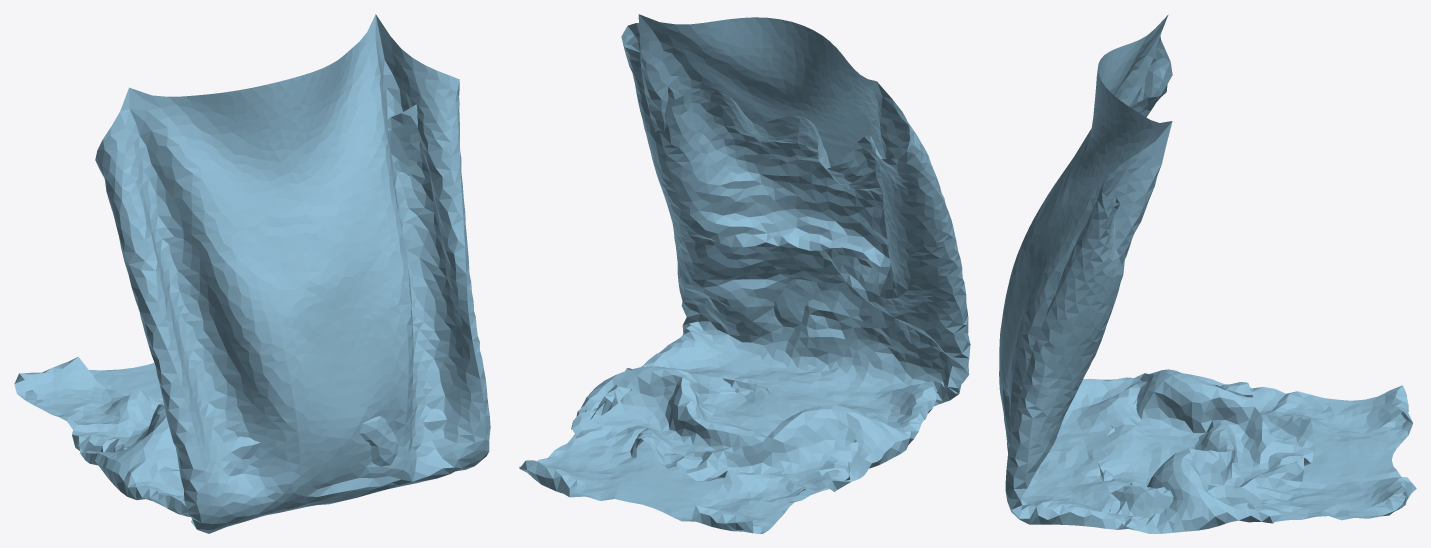
The model's file is frame_13.glb.
3 views of the same model, side by side, from view 1: azimuth 30°, elevation 25°; view 2: azimuth 150°, elevation 25°; view 3: azimuth 270°, elevation 25° (orthographic). The views are drawn at different scales.
Parts seen in each view (by area): view 1: frame_13.obj; view 2: frame_13.obj; view 3: frame_13.obj.
Boxes of the visible parts, bbox=[...] form: frame_13.obj: bbox=[14, 14, 490, 533]; frame_13.obj: bbox=[519, 14, 970, 533]; frame_13.obj: bbox=[999, 14, 1416, 533].
Bounding box in the file's own units: 0.8662 × 1.02 × 0.9656.
